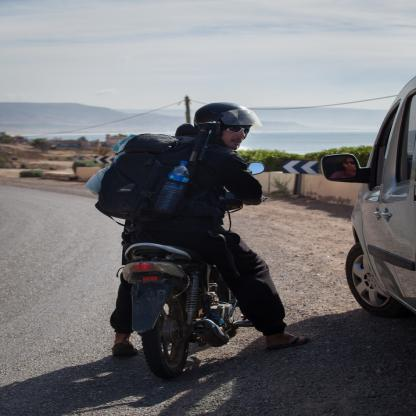Car: (321, 78, 416, 319)
